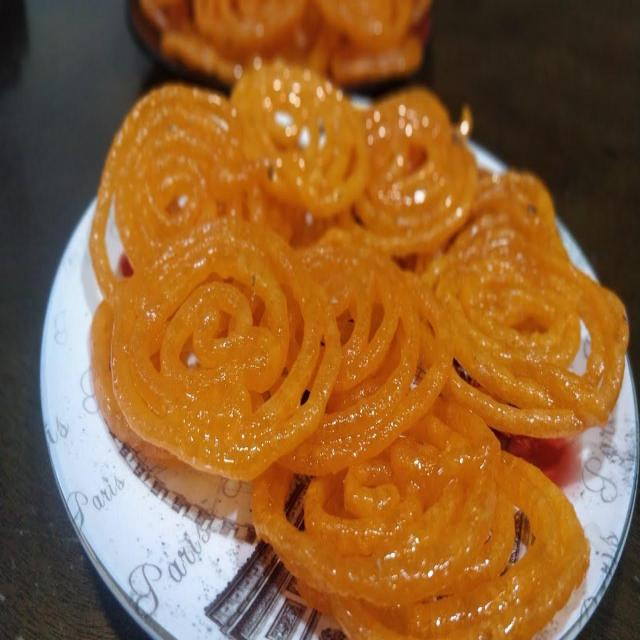jalebi: (110, 58, 610, 640)
